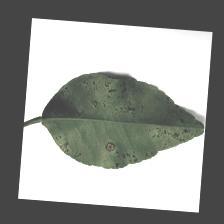canker: (88, 82, 205, 162)
